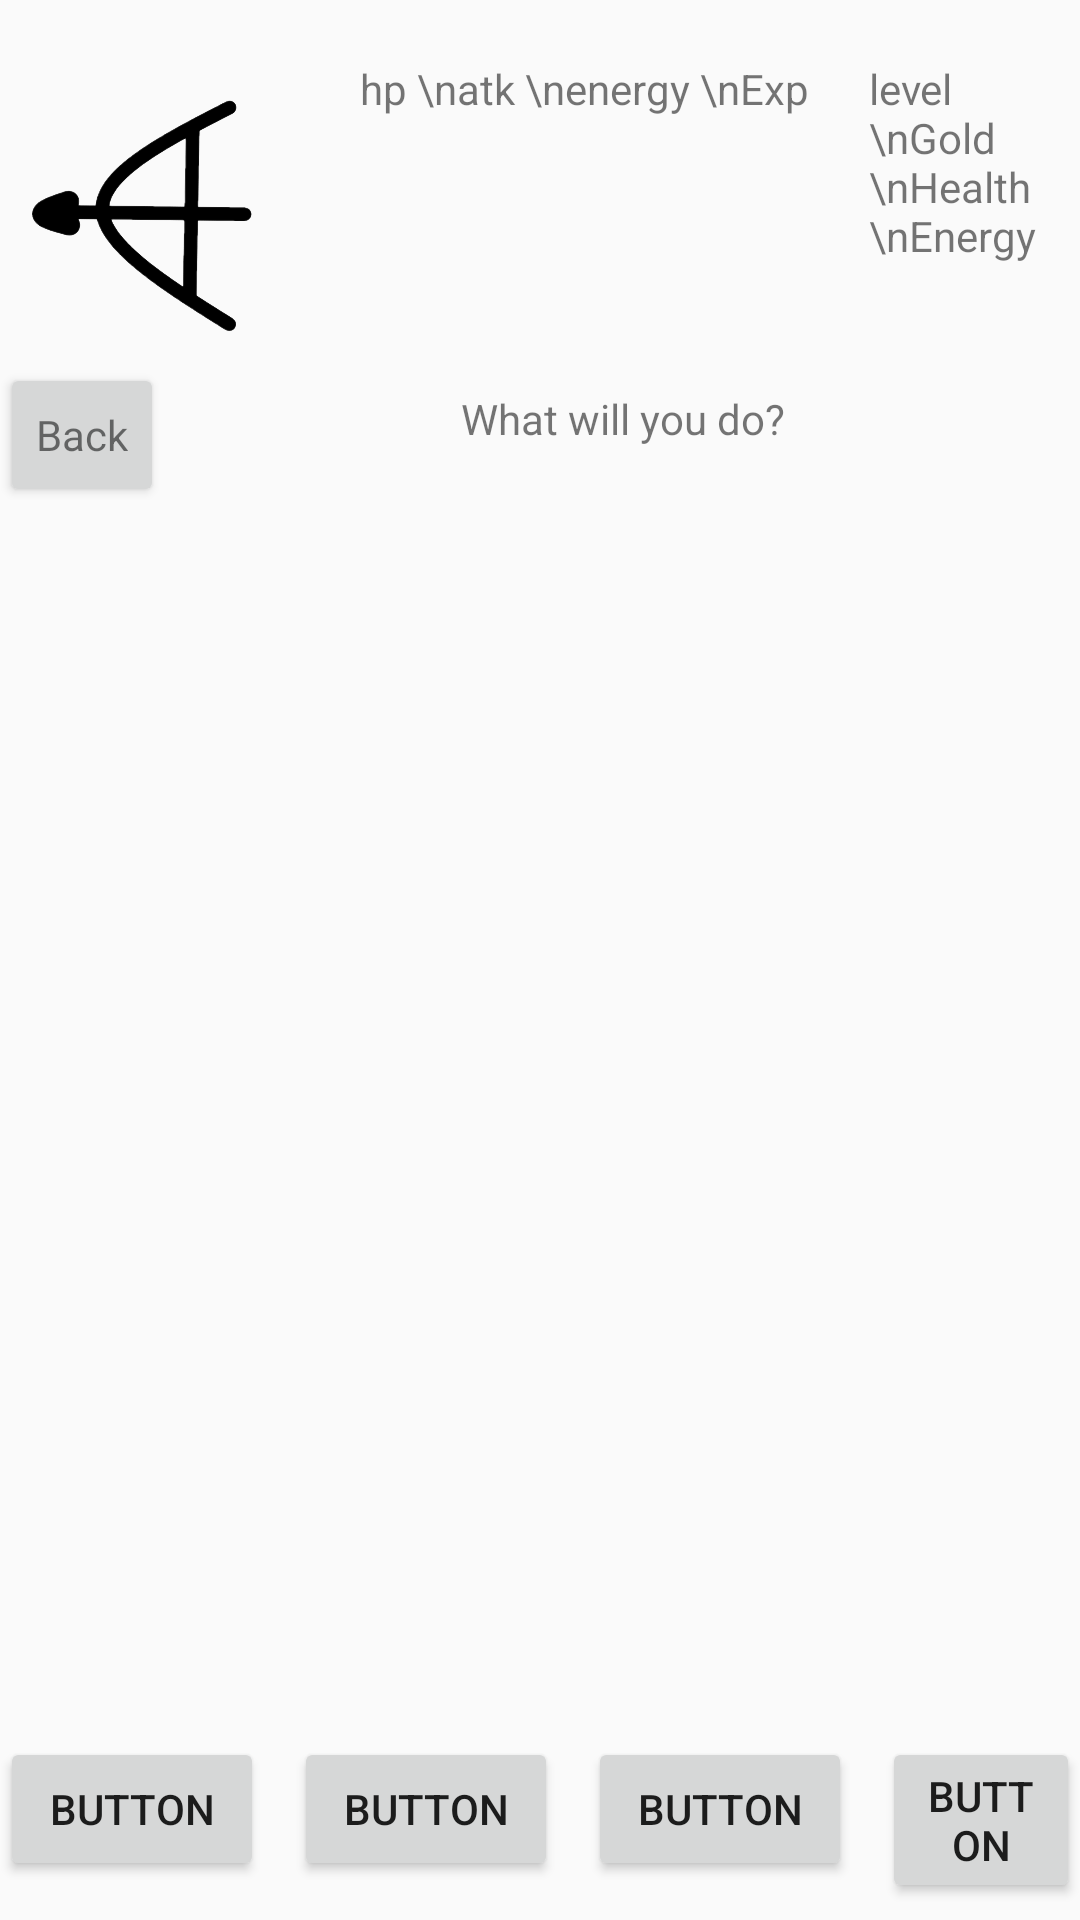

Where to tap for icons on this 1080 × 1920 app screen, as point (x, y):
archer: point (142, 215)
